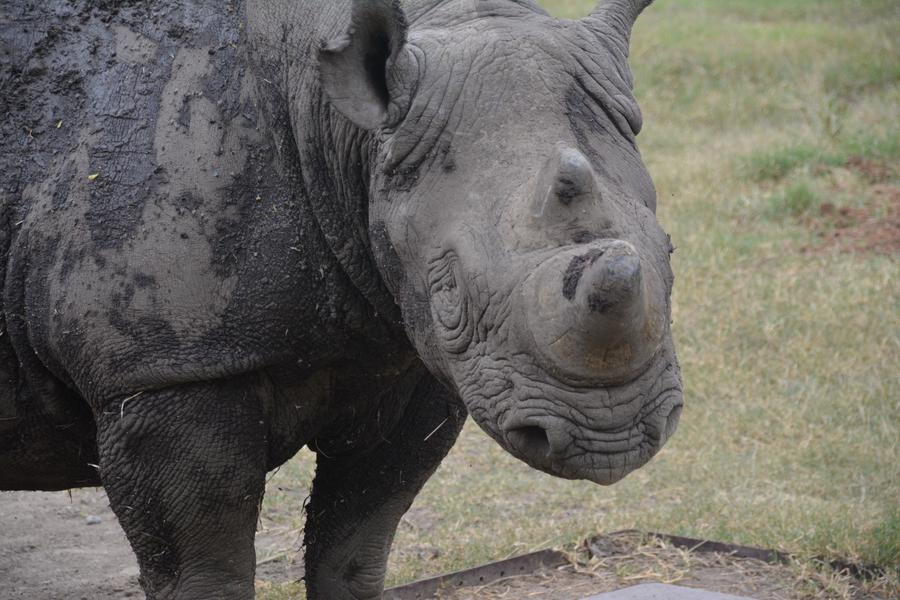rhino: (25, 41, 635, 566)
